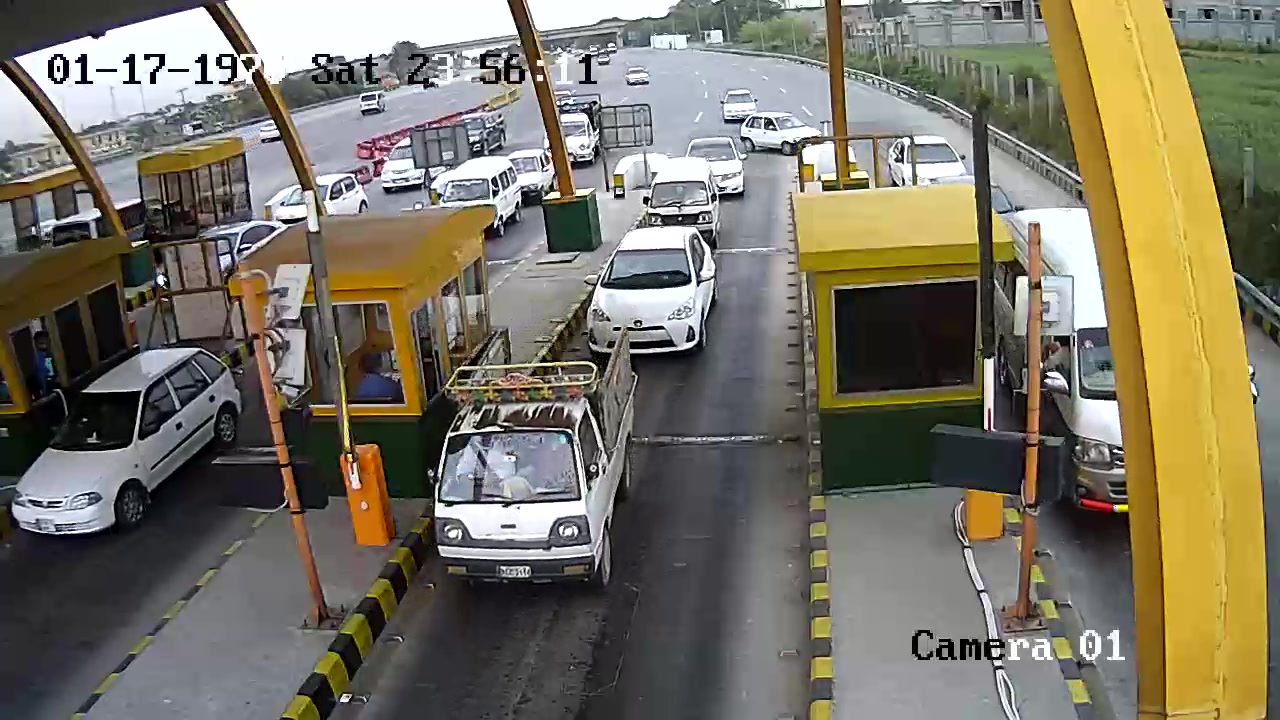F1: (419, 337, 643, 608)
